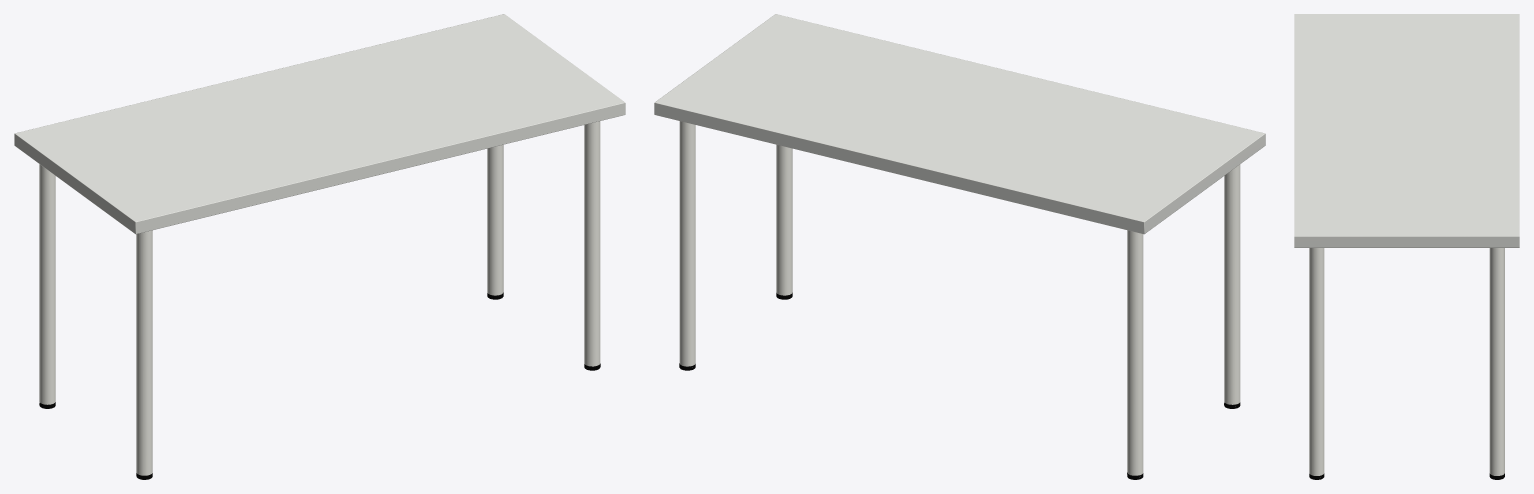
The picture shows the model from 3 angles, left to right: view 1: azimuth 30°, elevation 25°; view 2: azimuth 150°, elevation 25°; view 3: azimuth 270°, elevation 25°; orthographic projection. The views are drawn at different scales.
Parts seen in each view (by area): view 1: Mesh_0; view 2: Mesh_0; view 3: Mesh_0.
Part boxes in pixels (x1,y1,x2,y2): Mesh_0: (14, 14, 625, 479); Mesh_0: (654, 14, 1265, 479); Mesh_0: (1294, 14, 1519, 479).
Size of the model in its own units: 1.4 by 0.7339 by 0.5998.
Materials: 1 (1 with a texture image).
